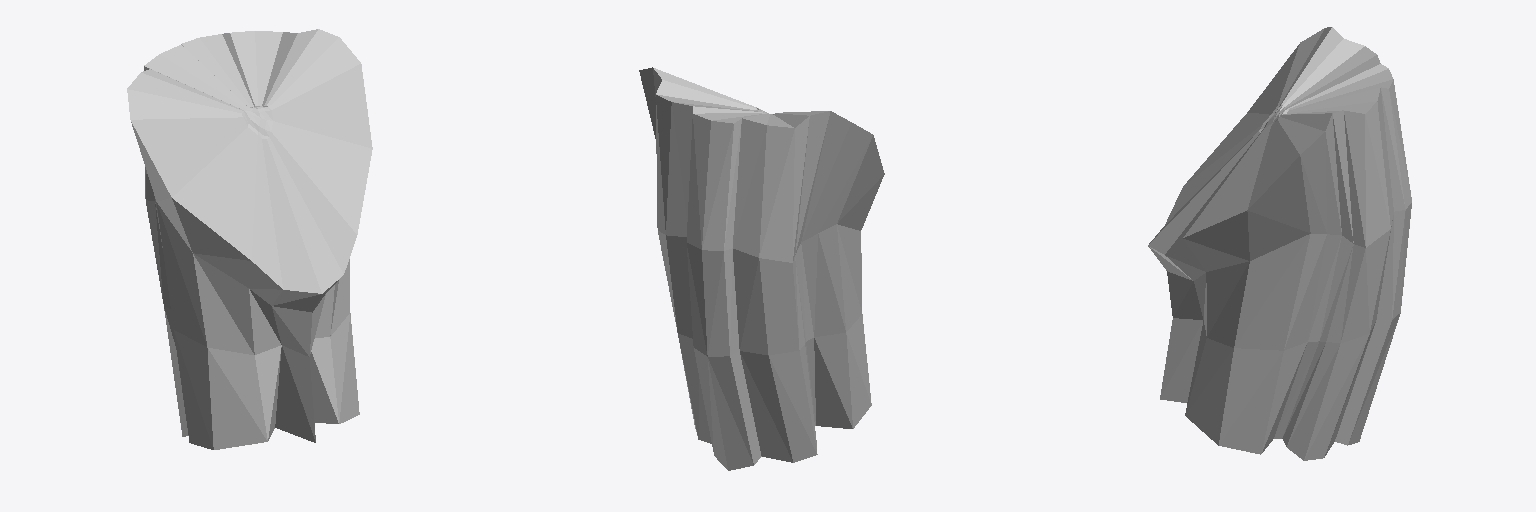
File: neck.obj
The picture shows the model from 3 angles: view 1: azimuth 30°, elevation 25°; view 2: azimuth 150°, elevation 25°; view 3: azimuth 270°, elevation 25°; orthographic projection.
Parts seen in each view (by area): view 1: Neck_Cube.013; view 2: Neck_Cube.013; view 3: Neck_Cube.013.
Boxes of the visible parts, x1=… form: Neck_Cube.013: x1=127, y1=29, x2=372, y2=449; Neck_Cube.013: x1=639, y1=67, x2=884, y2=470; Neck_Cube.013: x1=1148, y1=27, x2=1411, y2=460.
Size of the model in its own units: 0.9669 by 1.49 by 0.9586.